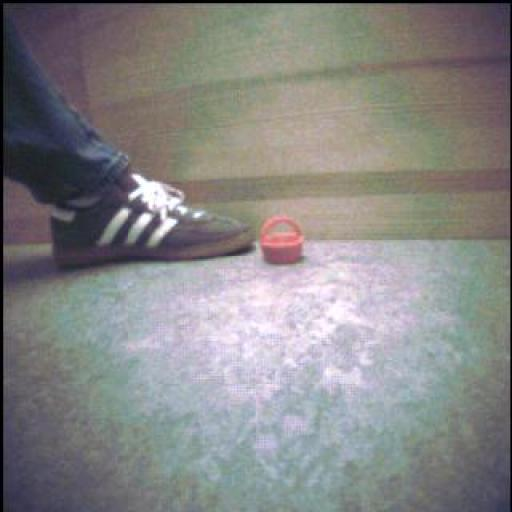Bucket: (260, 217, 305, 265)
